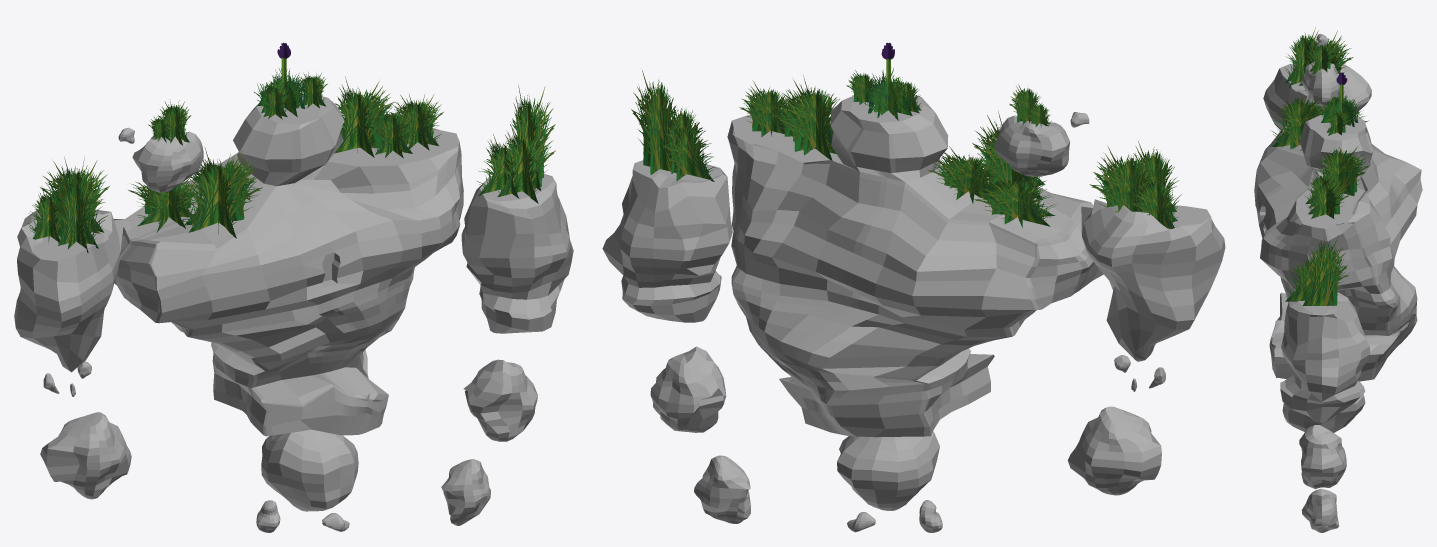
Rendered from bossModel12.fbx.
3 renders of one model, left to right at view 1: azimuth 30°, elevation 25°; view 2: azimuth 150°, elevation 25°; view 3: azimuth 270°, elevation 25°, orthographic. The views are drawn at different scales.
Parts seen in each view (by area): view 1: polySurface35, pPlane53, pPlane37, pPlane30, pPlane28, pPlane61, pPlane38, pPlane33, pPlane35, pPlane31, pPlane32, pPlane9 (+5 smaller); view 2: polySurface35, pPlane28, pPlane29, pPlane48, pPlane60, pPlane43, pPlane9, pPlane7, pPlane51, pPlane32, pPlane33, pPlane61 (+2 smaller); view 3: polySurface35, pPlane29, pPlane60, pPlane36, pPlane31, pPlane53, pPlane38, pPlane15, pPlane32, pPlane52, pPlane16, pPlane26 (+9 smaller).
Boxes of the visible parts, box(x1,y1,x2,y2) form: polySurface35: box(14, 93, 573, 532); pPlane53: box(179, 157, 262, 225); pPlane37: box(494, 127, 555, 197); pPlane30: box(185, 151, 256, 232); pPlane28: box(505, 86, 555, 178); pPlane61: box(335, 86, 398, 147); pPlane38: box(49, 173, 100, 248); pPlane33: box(334, 81, 392, 153); pPlane35: box(54, 172, 101, 245); pPlane31: box(197, 148, 236, 238); pPlane32: box(337, 76, 374, 157); pPlane9: box(477, 136, 527, 195); polySurface35: box(602, 95, 1225, 532); pPlane28: box(631, 68, 682, 172); pPlane29: box(643, 81, 670, 174); pPlane48: box(973, 181, 1056, 216); pPlane60: box(779, 88, 839, 151); pPlane43: box(1089, 152, 1162, 207); pPlane9: box(670, 124, 715, 181); pPlane7: box(978, 173, 1050, 226); pPlane51: box(927, 153, 1009, 191); pPlane32: box(795, 89, 830, 155); pPlane33: box(779, 79, 836, 153); pPlane61: box(799, 75, 832, 160); polySurface35: box(1254, 33, 1422, 532); pPlane29: box(1302, 235, 1347, 305); pPlane60: box(1315, 148, 1365, 195); pPlane36: box(1284, 259, 1317, 301); pPlane31: box(1272, 93, 1326, 146); pPlane53: box(1283, 97, 1308, 149); pPlane38: box(1288, 27, 1317, 87); pPlane15: box(1318, 73, 1363, 122); pPlane32: box(1311, 146, 1370, 192); pPlane52: box(1275, 96, 1323, 140); pPlane16: box(1297, 35, 1353, 85); pPlane26: box(1306, 180, 1349, 214).
Size of the model in its own units: 6.06 by 5.38 by 2.01.
Materials: 3 (2 with a texture image).
